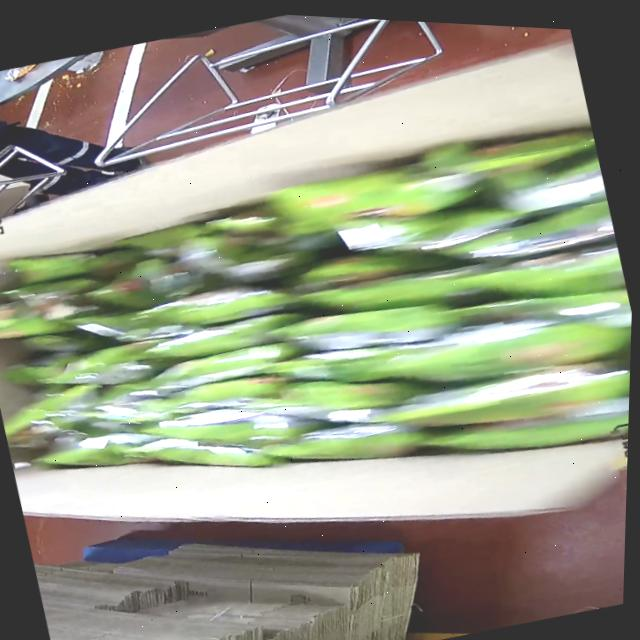YOGURT_HERB: (0, 102, 637, 573)
